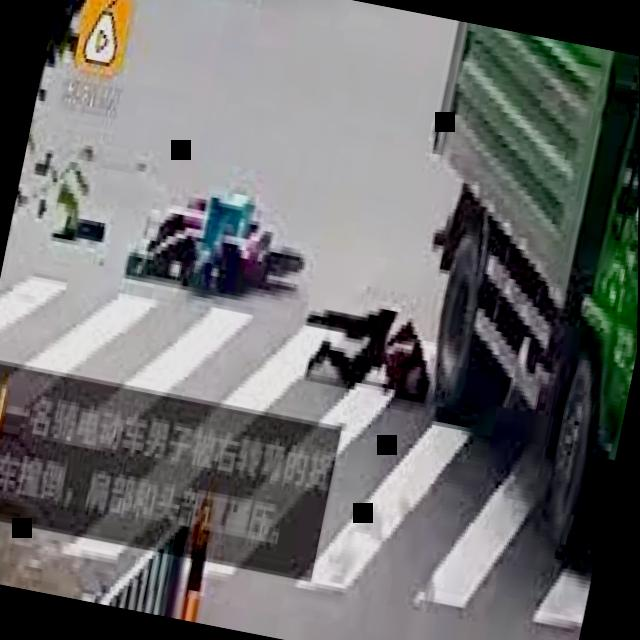Fall-Detected: (291, 268, 450, 408)
